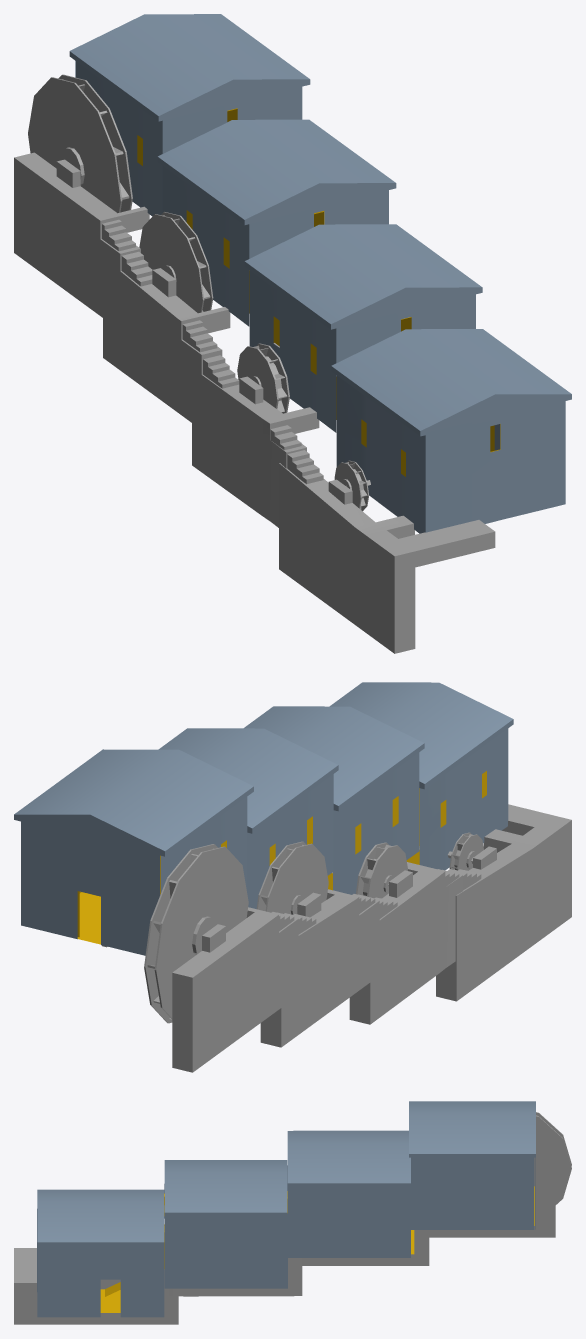
The model's file is WaterMills.fbx.
3 renders of one model, top to bottom at view 1: azimuth 30°, elevation 25°; view 2: azimuth 150°, elevation 25°; view 3: azimuth 270°, elevation 25°, orthographic. The views are drawn at different scales.
Visible parts, largest first — view 1: polySurface41, pCube65, Roof, Roof3, Roof1, Roof2, pCube70, pCylinder8 (×3), pCube12, pCube69, pCube68, pCube66 (+6 smaller); view 2: Roof, pCube65, polySurface50, pCube70, pCylinder8 (×4), pCube69, pCube68, Roof3, Roof2, Roof1, polySurface41, pCube12 (+6 smaller); view 3: pCube12, polySurface49, pCube66, polySurface41, Roof3, Roof, Roof1, Roof2, pCube65, pCylinder9, pCube68, pCube70 (+2 smaller).
Boxes of the visible parts, x1=… form: polySurface41: x1=336, y1=375, x2=565, y2=533; pCube65: x1=279, y1=463, x2=495, y2=653; Roof: x1=69, y1=14, x2=310, y2=121; Roof3: x1=331, y1=329, x2=571, y2=436; Roof1: x1=157, y1=119, x2=396, y2=225; Roof2: x1=244, y1=224, x2=482, y2=329; pCube70: x1=14, y1=152, x2=149, y2=329; pCylinder8 (×3): x1=28, y1=77, x2=278, y2=408; pCube12: x1=249, y1=270, x2=475, y2=432; pCube69: x1=103, y1=266, x2=230, y2=429; pCube68: x1=192, y1=374, x2=319, y2=527; pCube66: x1=162, y1=166, x2=388, y2=326; Roof: x1=14, y1=749, x2=253, y2=856; pCube65: x1=436, y1=804, x2=571, y2=1001; polySurface50: x1=21, y1=821, x2=160, y2=955; pCube70: x1=172, y1=907, x2=298, y2=1072; pCylinder8 (×4): x1=154, y1=834, x2=483, y2=1019; pCube69: x1=260, y1=889, x2=379, y2=1047; pCube68: x1=349, y1=862, x2=462, y2=1024; Roof3: x1=329, y1=682, x2=513, y2=789; Roof2: x1=244, y1=706, x2=424, y2=811; Roof1: x1=158, y1=728, x2=338, y2=833; polySurface41: x1=419, y1=728, x2=508, y2=870; pCube12: x1=333, y1=752, x2=419, y2=894; pCube12: x1=164, y1=1165, x2=287, y2=1288; polySurface49: x1=411, y1=1157, x2=534, y2=1229; pCube66: x1=287, y1=1187, x2=410, y2=1257; polySurface41: x1=37, y1=1209, x2=164, y2=1317; Roof3: x1=37, y1=1189, x2=164, y2=1245; Roof: x1=409, y1=1101, x2=535, y2=1157; Roof1: x1=287, y1=1130, x2=410, y2=1187; Roof2: x1=164, y1=1160, x2=287, y2=1216; pCube65: x1=14, y1=1248, x2=178, y2=1324; pCylinder9: x1=534, y1=1115, x2=571, y2=1221; pCube68: x1=168, y1=1258, x2=302, y2=1296; pCube70: x1=414, y1=1206, x2=555, y2=1237.
Size of the model in its own units: 10.27 by 17.36 by 35.99.
